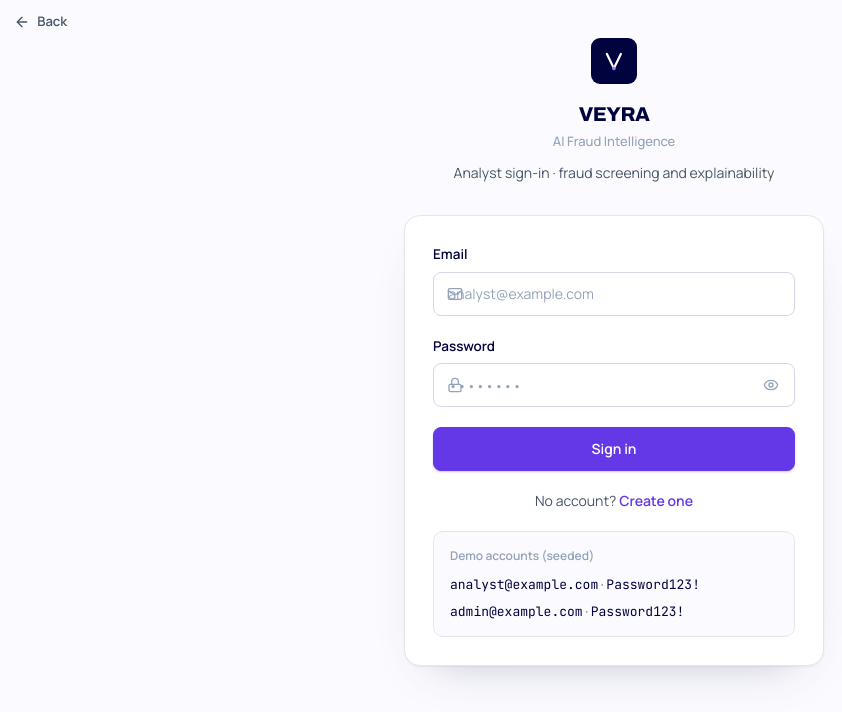
Scenario: Login page › shows a friendly message when the backend is unreachable
Type "ana@example.com" into the field labelled "Email" at (614, 294), box [433,272,795,316]
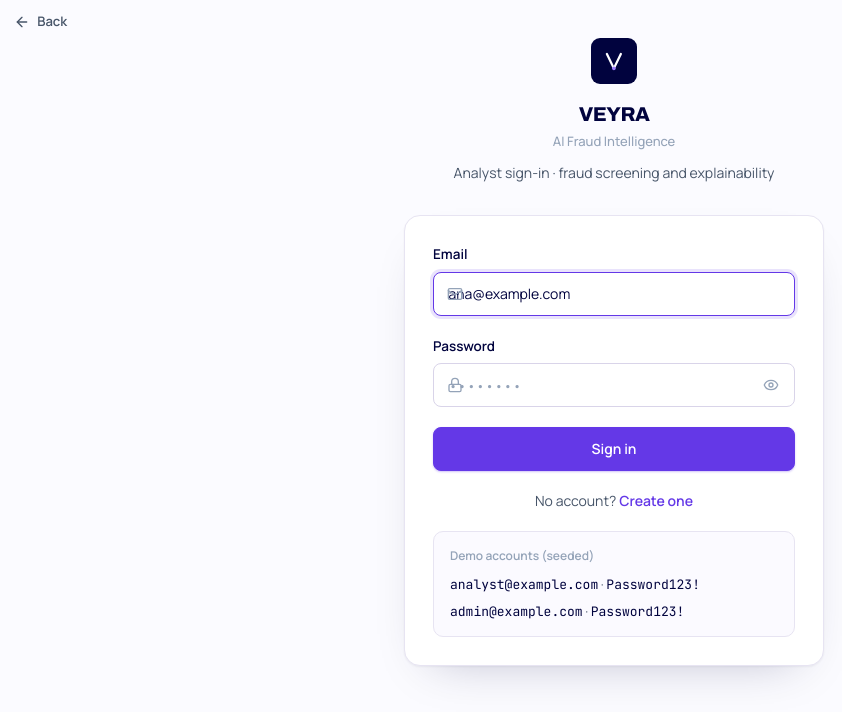
Type "Password123!" into the password field labelled "Password" at (614, 385), box [433,363,795,407]
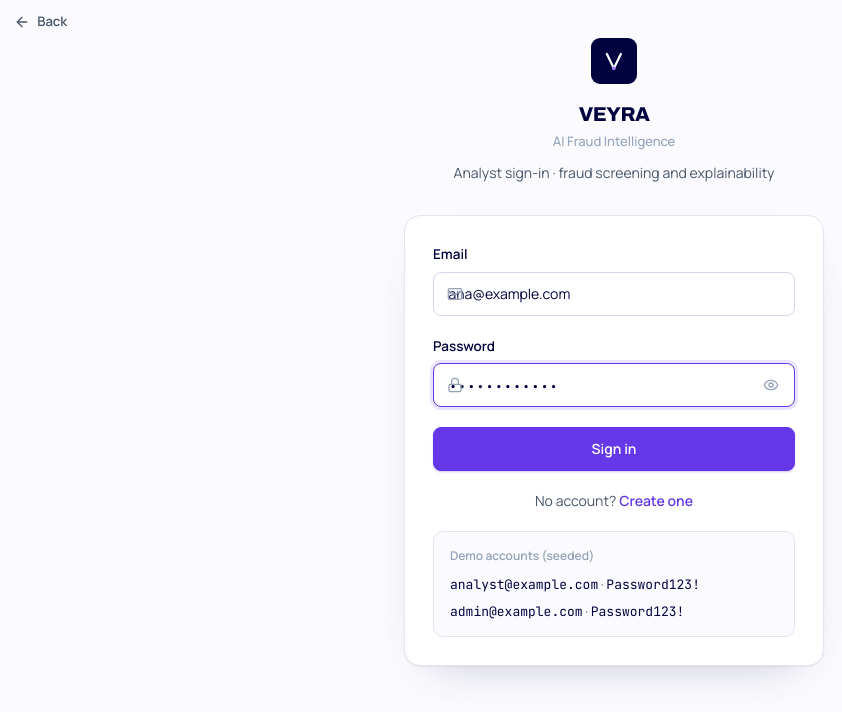
Click the button "Sign in" at (614, 449), box [433,427,795,471]
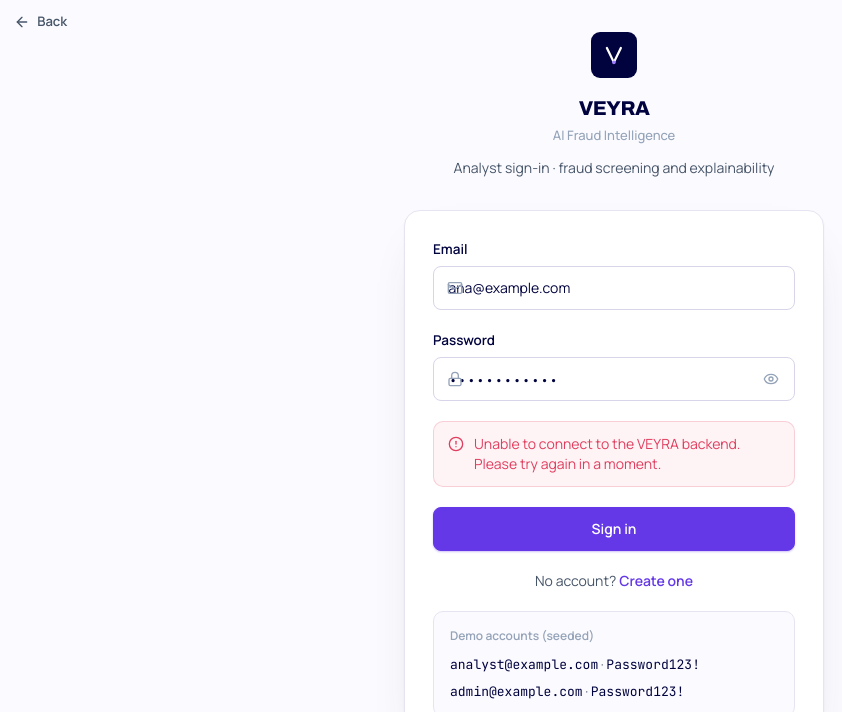
Now the text "Unable to connect to the VEYRA backend. Please try again in a moment." is shown, box [433,421,795,487]
